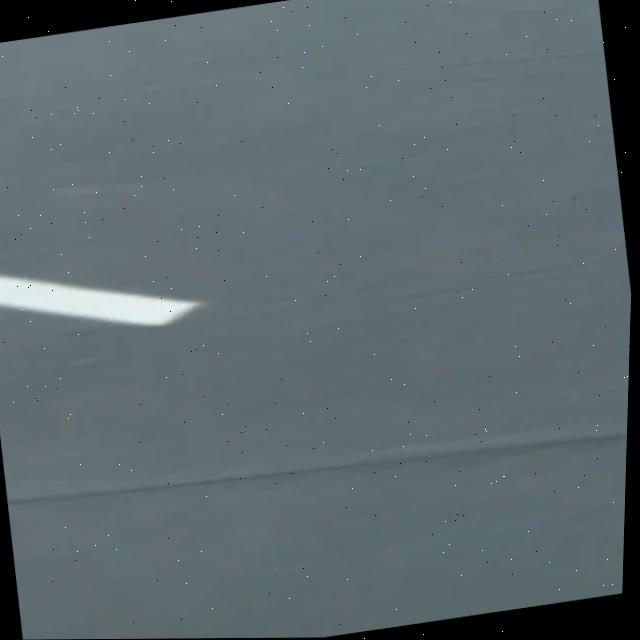center: (0, 272, 203, 325)
